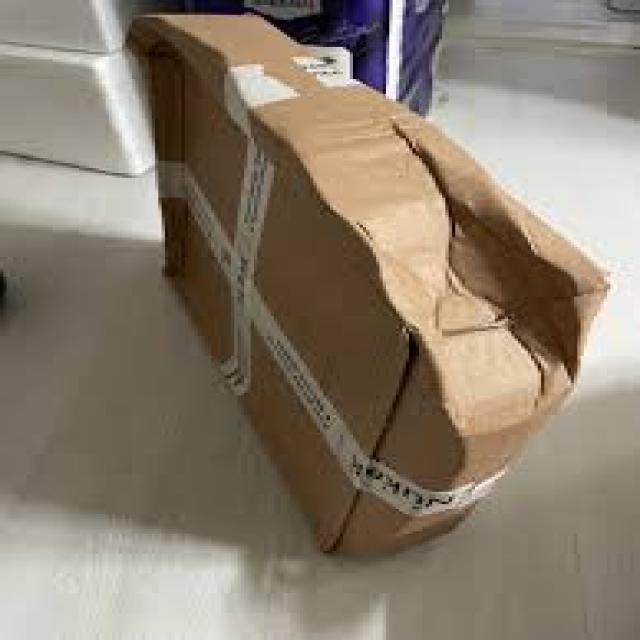box: (9, 35, 631, 626)
opened: (10, 36, 632, 319)
